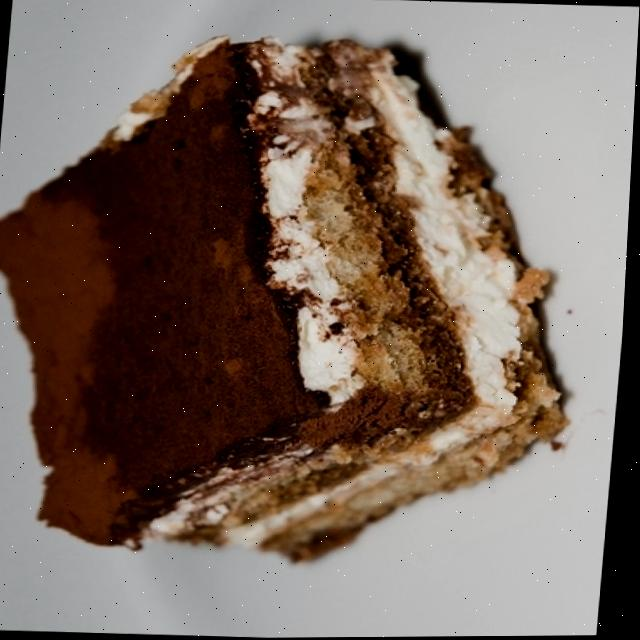蛋糕甜品: (0, 1, 618, 622)
